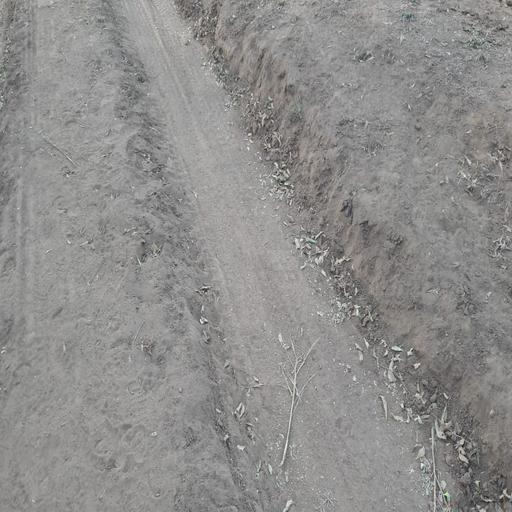vehicle_track: (113, 0, 458, 512)
